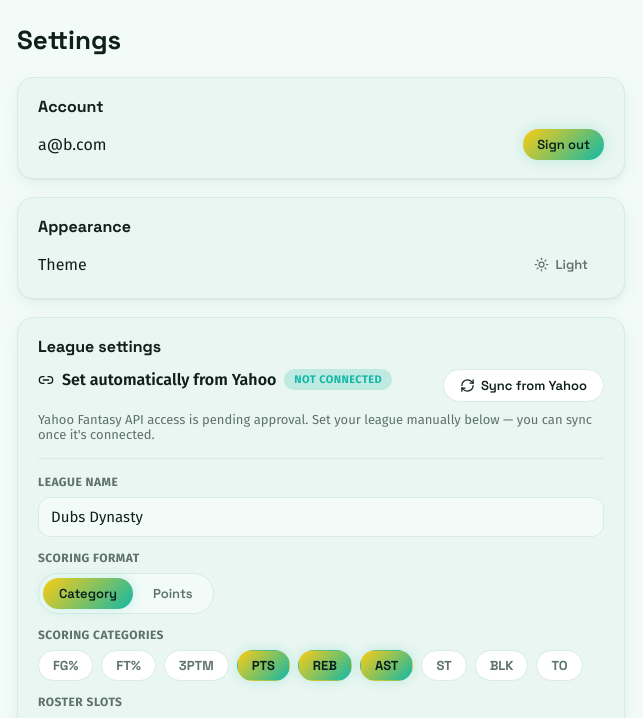
Scenario: SettingsView › loads and saves a manual league config for a signed-in user
This screenshot has width=643, height=718.
Expected: the field showing "Dubs Dynasty" is shown, x1=38 y1=497 x2=604 y2=537
# Toggle a category on, then save.
Click the button "BLK": (502, 666) x1=475 y1=650 x2=528 y2=681
(page scrolled)
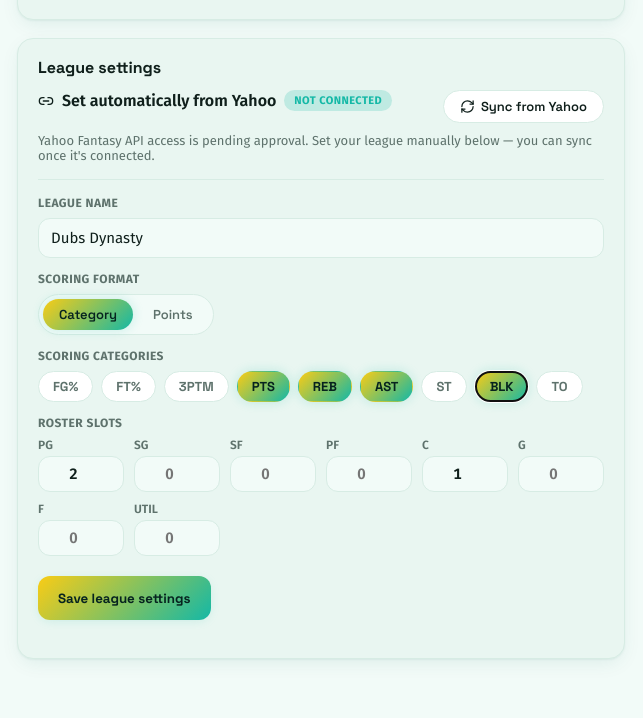
Click the button "Save league settings": (124, 598) x1=38 y1=576 x2=210 y2=620
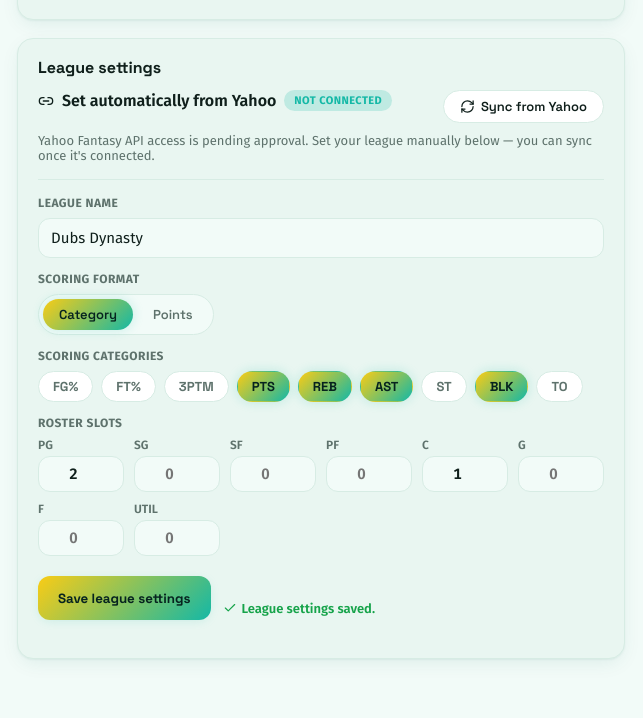
Expected: the button "BLK" is shown, x1=475 y1=371 x2=528 y2=402
Now the text "League settings saved." is shown, box x1=222 y1=600 x2=375 y2=616
